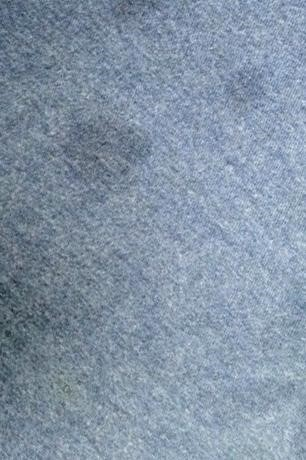stain: (61, 117, 153, 196), (224, 63, 274, 117), (112, 0, 172, 27)
